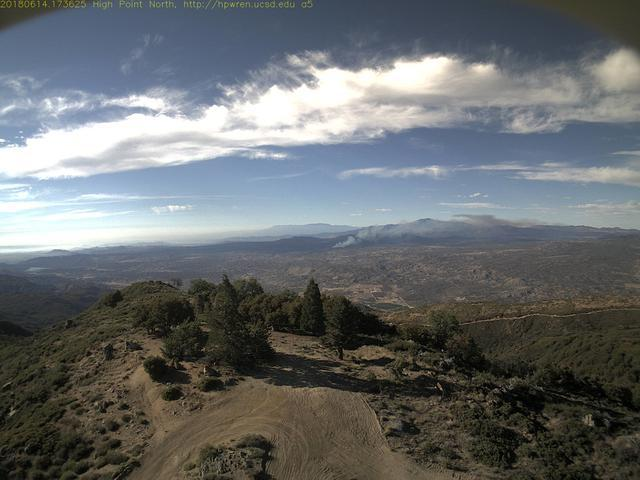smoke: (327, 210, 504, 252)
